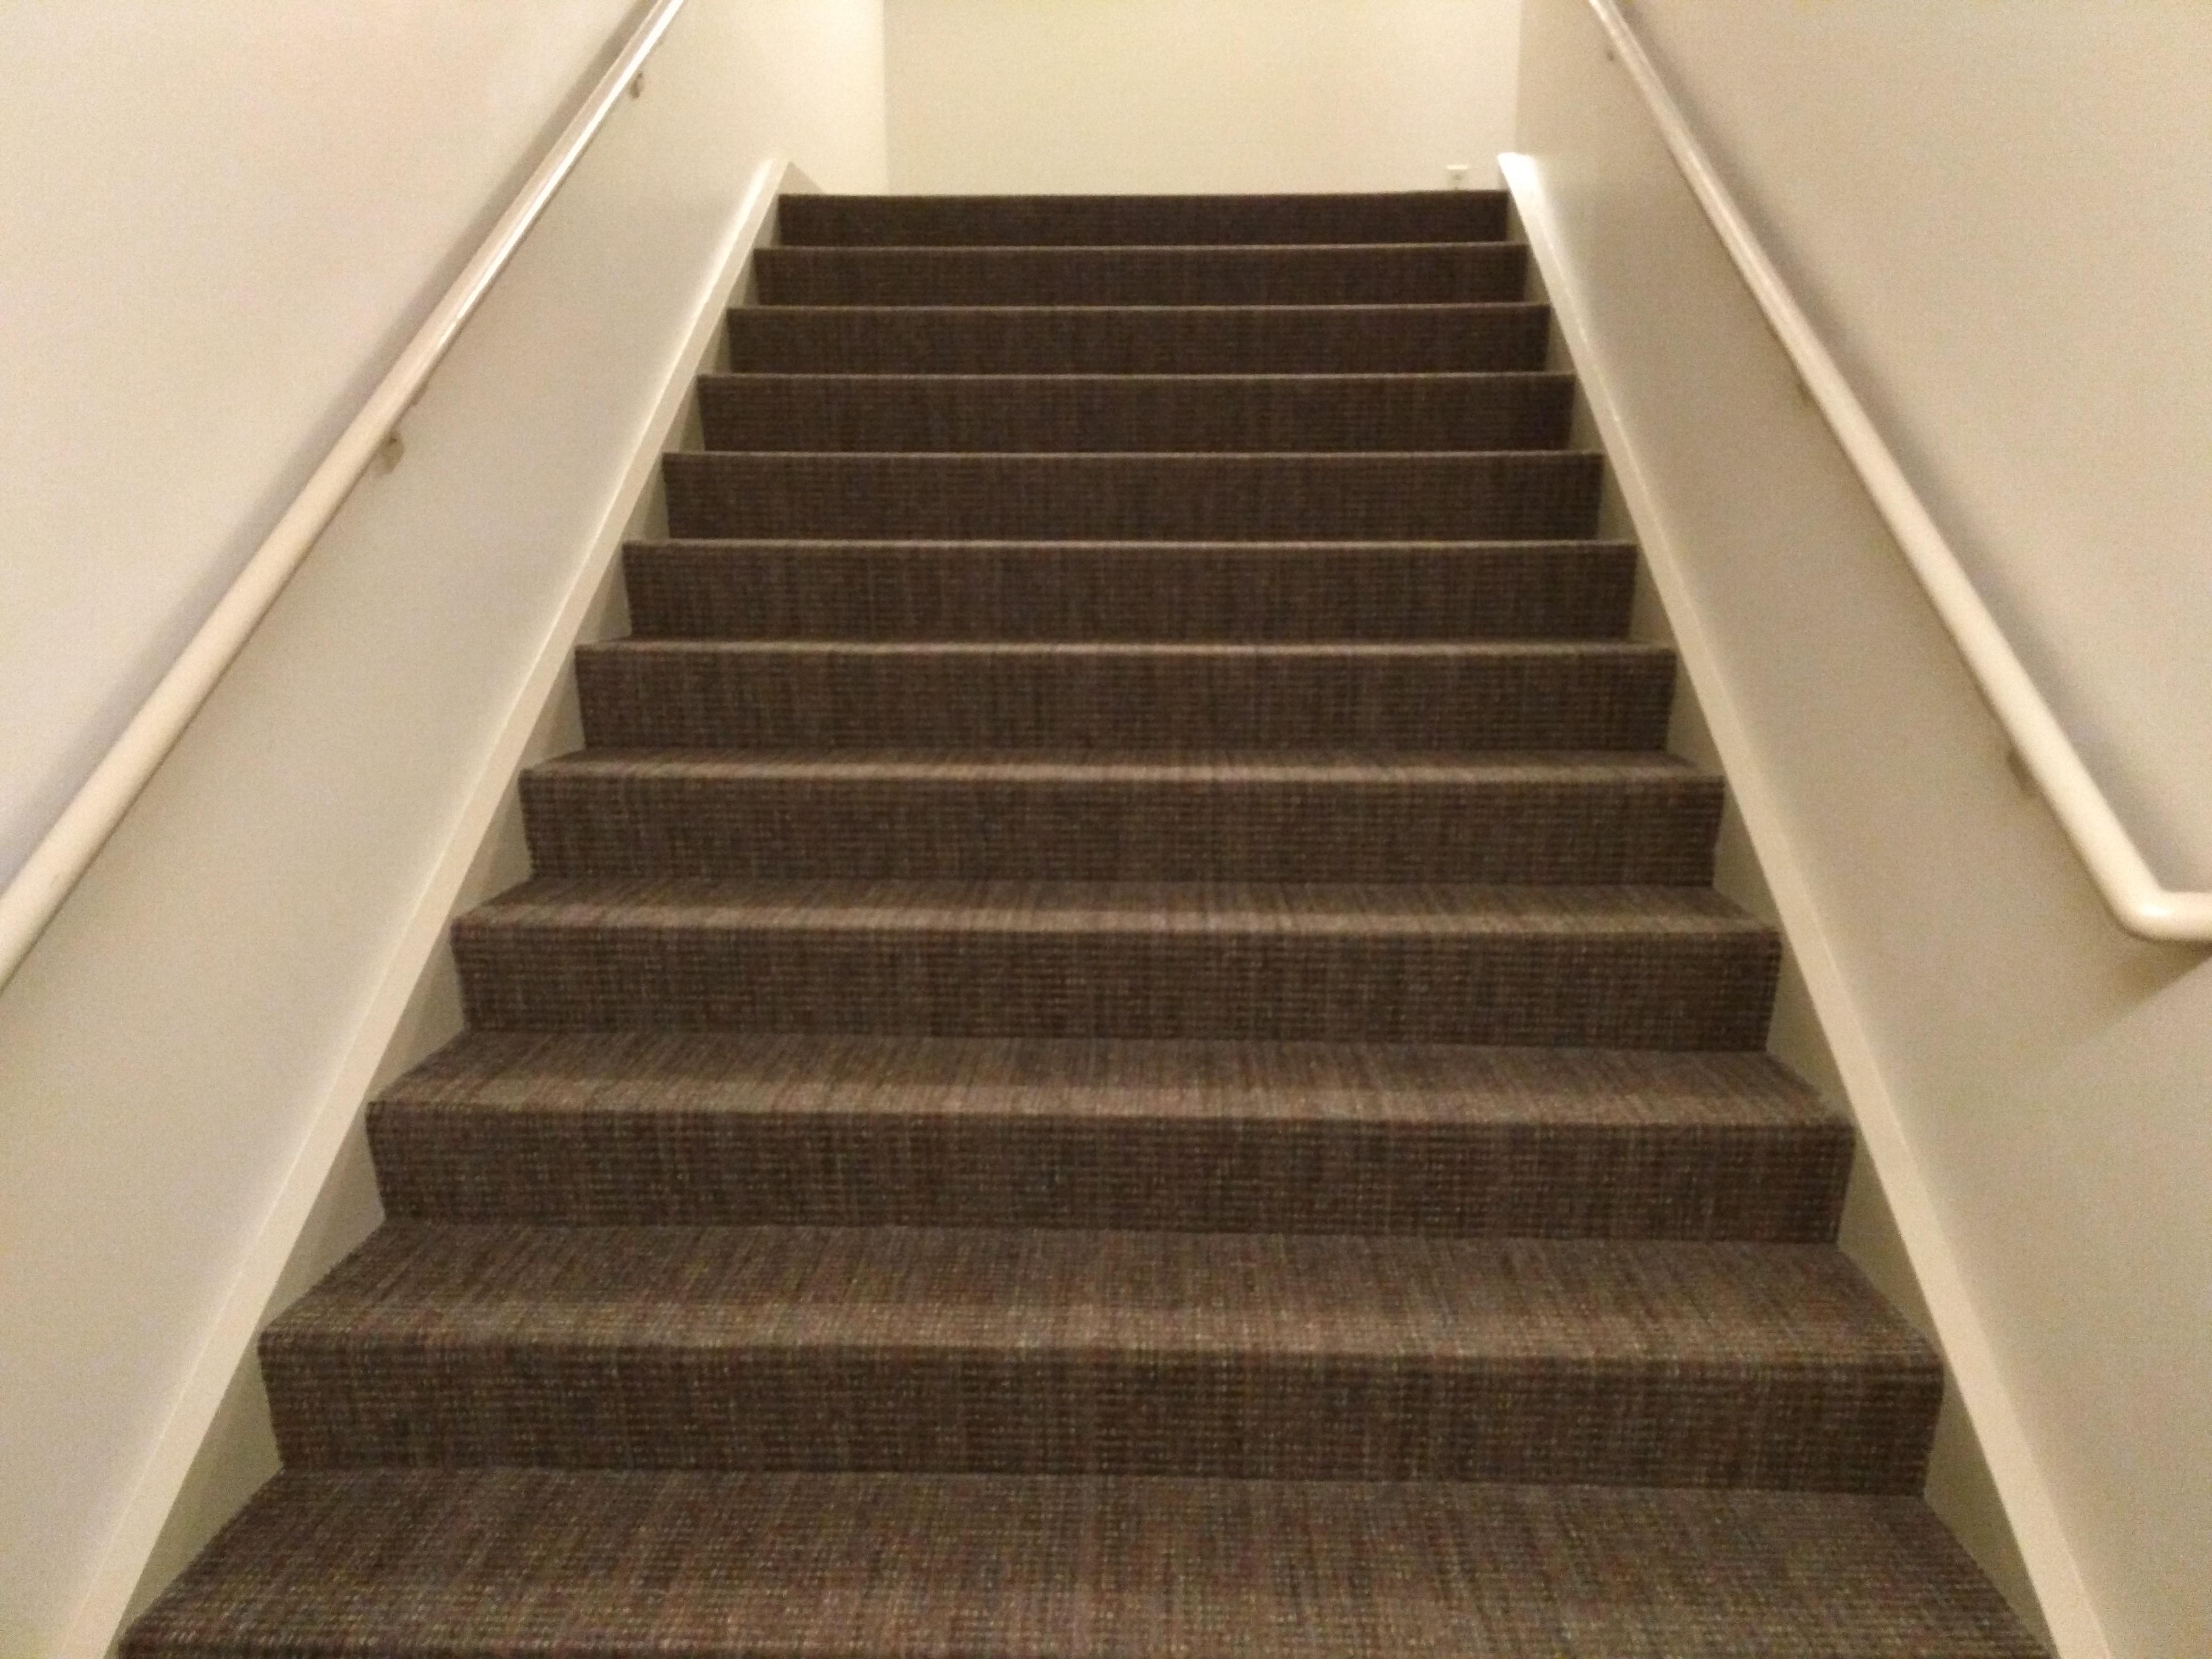stairs_up: (225, 183, 2000, 1537)
